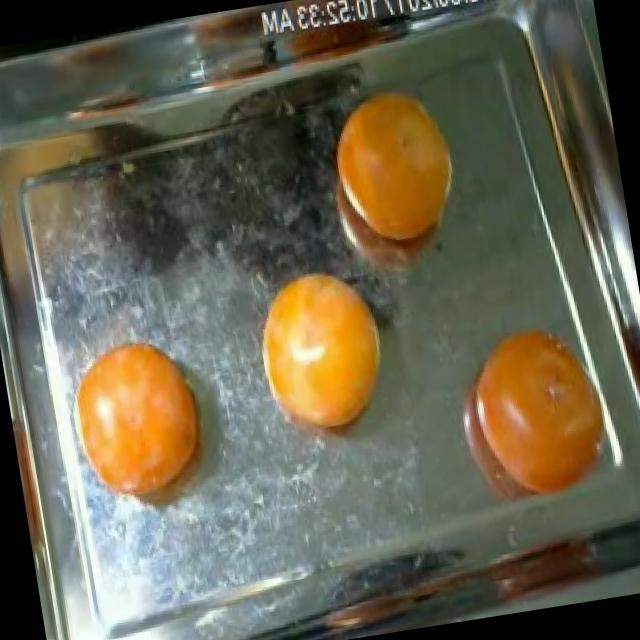Fruit: (430, 293, 638, 536), (52, 316, 234, 541), (239, 245, 412, 463), (316, 69, 480, 268)
